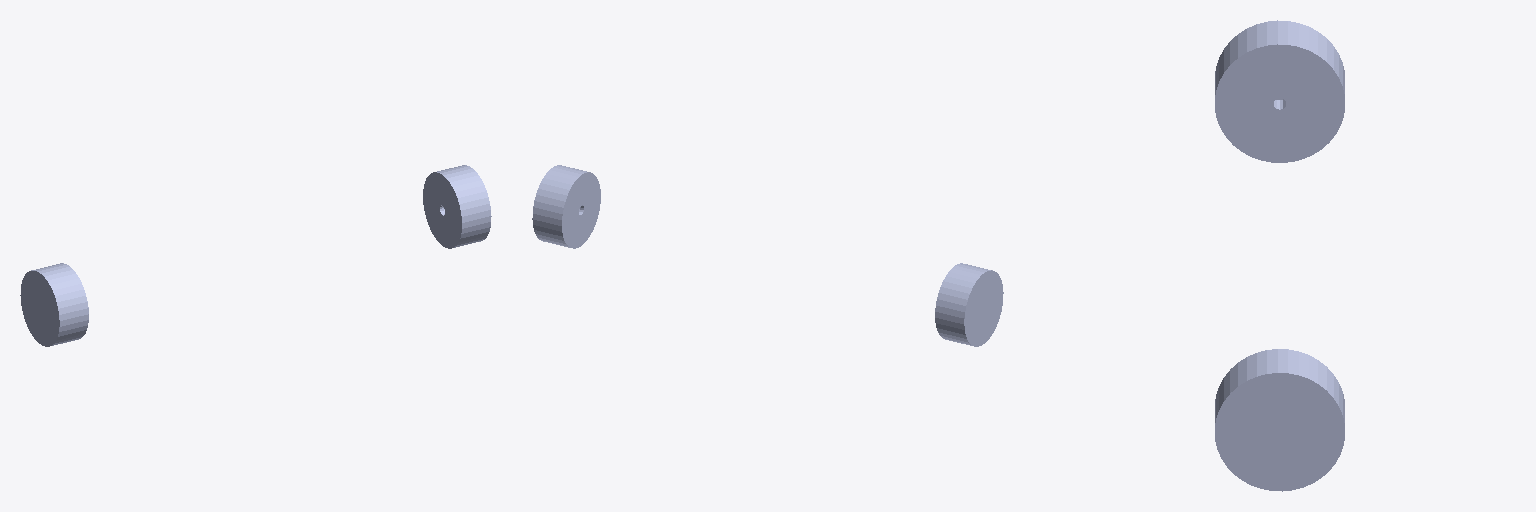
URDF robot description (SteriBot_V1):
<?xml version="1.0" encoding="utf-8"?>
<!-- This URDF was automatically created by SolidWorks to URDF Exporter! Originally created by [author] ([email redacted]) 
     Commit Version: 1.6.0-4-g7f85cfe  Build Version: 1.6.7995.38578
     For more information, please see http://wiki.ros.org/sw_urdf_exporter -->
<robot
  name="SteriBot_V1">
  <link
    name="Robot_Body">
    <inertial>
      <origin
        xyz="0.000104042129668613 0.0877816025915936 -0.00690008826215147"
        rpy="0 0 0" />
      <mass
        value="2.13809371197155" />
      <inertia
        ixx="0.0304746948350179"
        ixy="2.28485885750178E-06"
        ixz="-5.07528464719343E-06"
        iyy="0.0462735273259771"
        iyz="-0.00117116630054818"
        izz="0.0264404448884293" />
    </inertial>
    <visual>
      <origin
        xyz="0 0 0"
        rpy="0 0 0" />
      <geometry>
        <mesh
          filename="package://SteriBot_V1/meshes/Robot_Body.STL" />
      </geometry>
      <material
        name="">
        <color
          rgba="0.792156862745098 0.819607843137255 0.933333333333333 1" />
      </material>
    </visual>
    <collision>
      <origin
        xyz="0 0 0"
        rpy="0 0 0" />
      <geometry>
        <mesh
          filename="package://SteriBot_V1/meshes/Robot_Body.STL" />
      </geometry>
    </collision>
  </link>
  <link
    name="Right_Wheel">
    <inertial>
      <origin
        xyz="-2.77555756156289E-17 3.46944695195361E-17 -0.0130550774526678"
        rpy="0 0 0" />
      <mass
        value="0.0730106132694267" />
      <inertia
        ixx="2.0643141959258E-05"
        ixy="-8.470329472543E-22"
        ixz="4.02472403053964E-22"
        iyy="2.0643141959258E-05"
        iyz="-3.06929109187452E-23"
        izz="3.30769494037039E-05" />
    </inertial>
    <visual>
      <origin
        xyz="0 0 0"
        rpy="0 0 0" />
      <geometry>
        <mesh
          filename="package://SteriBot_V1/meshes/Right_Wheel.STL" />
      </geometry>
      <material
        name="">
        <color
          rgba="0.792156862745098 0.819607843137255 0.933333333333333 1" />
      </material>
    </visual>
    <collision>
      <origin
        xyz="0 0 0"
        rpy="0 0 0" />
      <geometry>
        <mesh
          filename="package://SteriBot_V1/meshes/Right_Wheel.STL" />
      </geometry>
    </collision>
  </link>
  <joint
    name="Right_Wheel_Joint"
    type="continuous">
    <origin
      xyz="0.165 -0.10676 0.01775"
      rpy="1.5708 -0.54317 -1.5708" />
    <parent
      link="Robot_Body" />
    <child
      link="Right_Wheel" />
    <axis
      xyz="0 0 1" />
  </joint>
  <link
    name="Left_Wheel">
    <inertial>
      <origin
        xyz="-8.32667268468867E-17 1.2490009027033E-16 0.013030888030888"
        rpy="0 0 0" />
      <mass
        value="0.073230524755178" />
      <inertia
        ixx="2.06605749493452E-05"
        ixy="-1.6940658945086E-21"
        ixz="4.05447365964337E-21"
        iyy="2.06605749493452E-05"
        iyz="-1.97469498516513E-21"
        izz="3.30796982972758E-05" />
    </inertial>
    <visual>
      <origin
        xyz="0 0 0"
        rpy="0 0 0" />
      <geometry>
        <mesh
          filename="package://SteriBot_V1/meshes/Left_Wheel.STL" />
      </geometry>
      <material
        name="">
        <color
          rgba="0.792156862745098 0.819607843137255 0.933333333333333 1" />
      </material>
    </visual>
    <collision>
      <origin
        xyz="0 0 0"
        rpy="0 0 0" />
      <geometry>
        <mesh
          filename="package://SteriBot_V1/meshes/Left_Wheel.STL" />
      </geometry>
    </collision>
  </link>
  <joint
    name="Left_Wheel_Joint"
    type="continuous">
    <origin
      xyz="-0.165 -0.10676 0.01775"
      rpy="1.5708 -0.54317 -1.5708" />
    <parent
      link="Robot_Body" />
    <child
      link="Left_Wheel" />
    <axis
      xyz="0 0 1" />
  </joint>
</robot>

--- Facts derived from the render (not from the file) ---
The picture shows the robot from 3 angles, left to right: view 1: azimuth 30°, elevation 25°; view 2: azimuth 150°, elevation 25°; view 3: azimuth 270°, elevation 25°; orthographic projection.
Model SteriBot_V1 with 3 links and 2 joints (2 continuous), rooted at Robot_Body, posed all joints at 0.
Visible links, largest first — view 1: Right_Wheel, Left_Wheel; view 2: Right_Wheel, Left_Wheel; view 3: Right_Wheel, Left_Wheel.
Boxes of the visible links, bbox=[...] form: Right_Wheel: bbox=[423, 165, 491, 248]; Left_Wheel: bbox=[20, 263, 88, 346]; Right_Wheel: bbox=[532, 165, 600, 248]; Left_Wheel: bbox=[935, 263, 1003, 346]; Right_Wheel: bbox=[1215, 349, 1344, 491]; Left_Wheel: bbox=[1215, 20, 1344, 162].
Bounding box of the posed robot: 0.382 × 0.0599 × 0.06 m (x, y, z).
2 mesh visuals loaded from 3 distinct referenced files (2 binary STL); not drawn: 1 (reference not matched to a file when rendering).